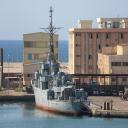Fragata: (30, 7, 93, 118)
